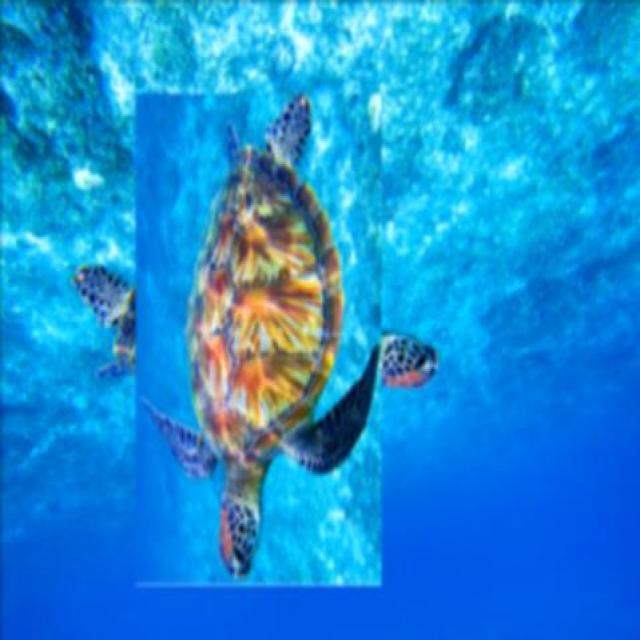Sea turtle: (102, 130, 412, 544)
